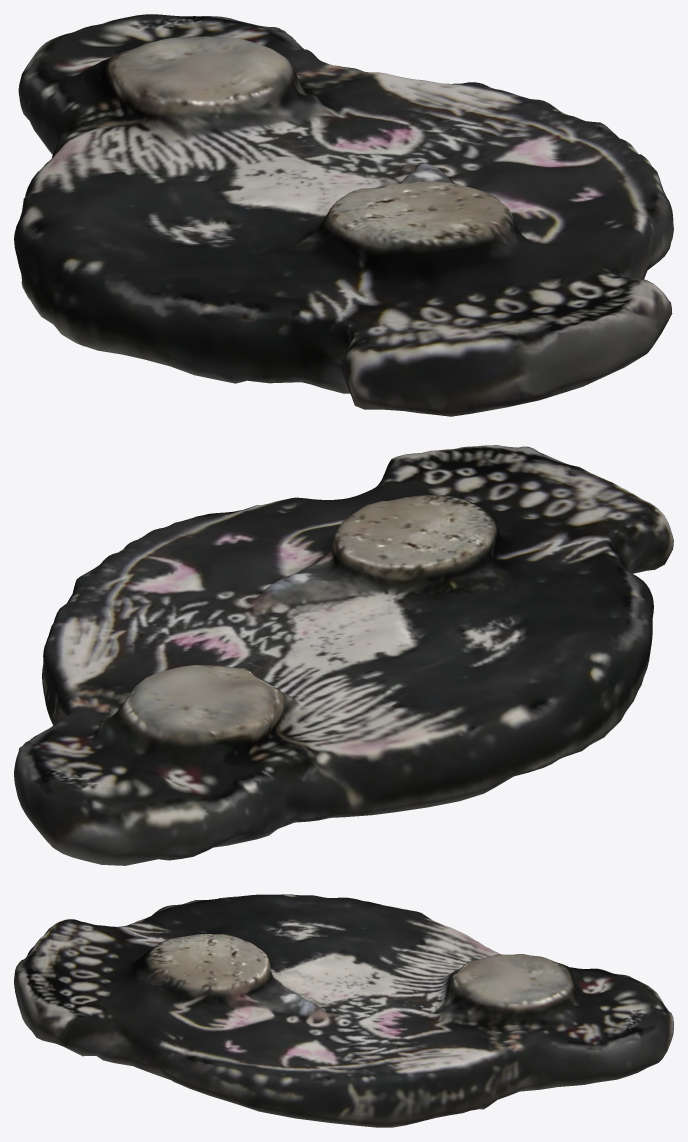
The picture shows the model from 3 angles, top to bottom: view 1: azimuth 30°, elevation 25°; view 2: azimuth 150°, elevation 25°; view 3: azimuth 270°, elevation 25°; orthographic projection. The views are drawn at different scales.
Bounding box in the file's own units: 0.3866 × 0.0935 × 0.5783.
1 material, 1 textured.
